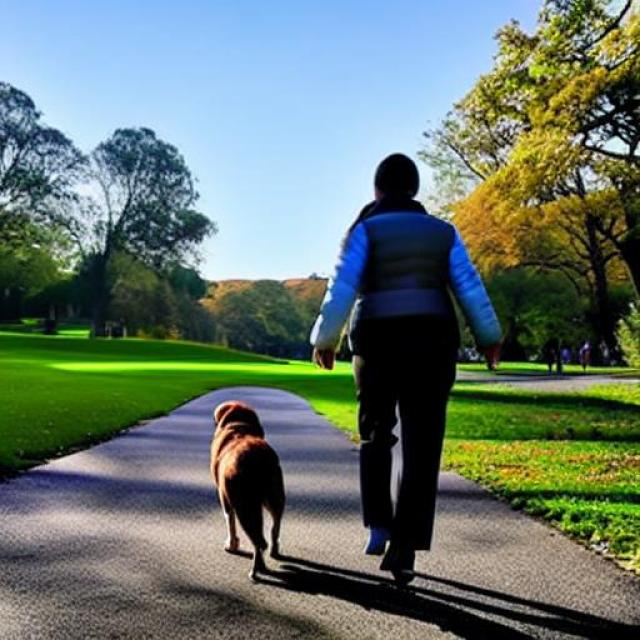Unleashed_Dog: (212, 364, 462, 583)
